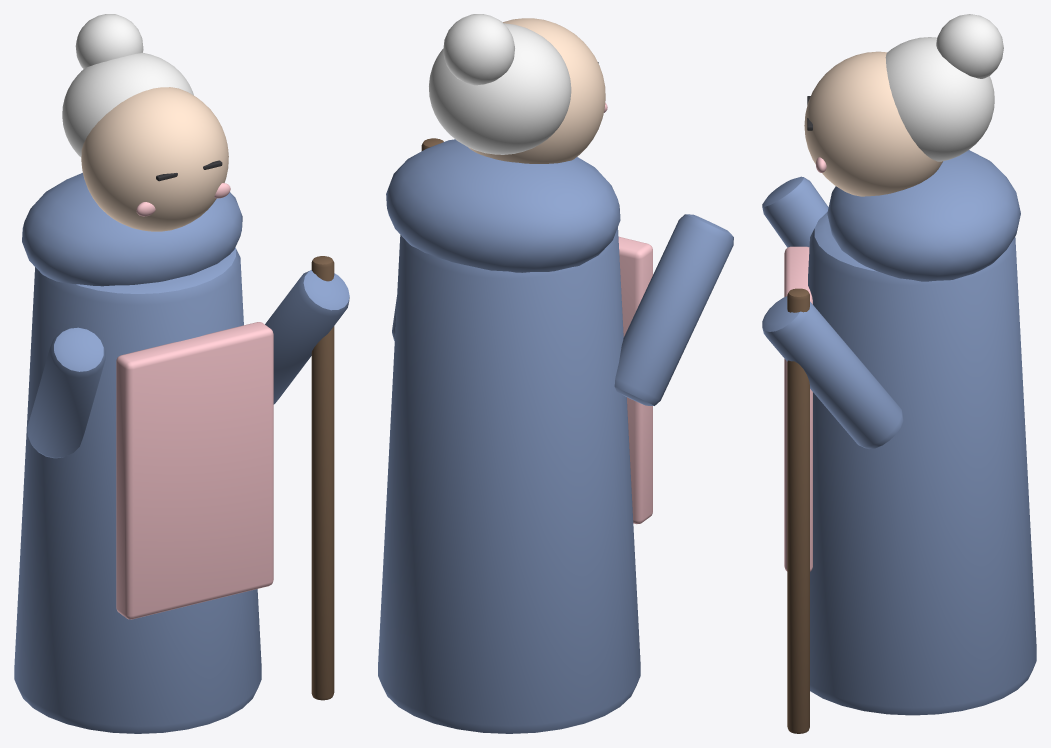
The model's file is obaachan.glb.
The picture shows the model from 3 angles, left to right: view 1: azimuth 30°, elevation 25°; view 2: azimuth 150°, elevation 25°; view 3: azimuth 270°, elevation 25°; orthographic projection. The views are drawn at different scales.
Parts seen in each view (by area): view 1: obaachan; view 2: obaachan; view 3: obaachan.
Part boxes in pixels (<box>): obaachan: <box>14,14,349,733</box>; obaachan: <box>378,14,733,733</box>; obaachan: <box>762,14,1036,733</box>.
Size of the model in its own units: 0.5971 by 1.26 by 0.4817.
